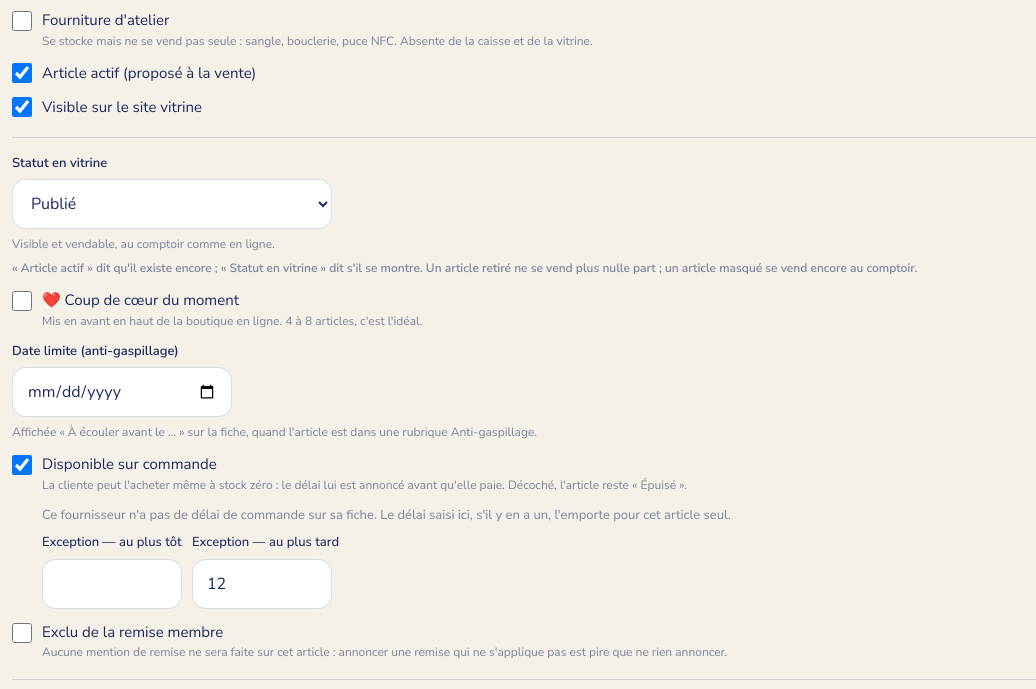
Test case: la case « Disponible sur commande » › une exception effacée fait revenir l'avertissement
(page scrolled)
Clear the field labelled "Exception — au plus tard" at (262, 584), box [192, 558, 332, 608]
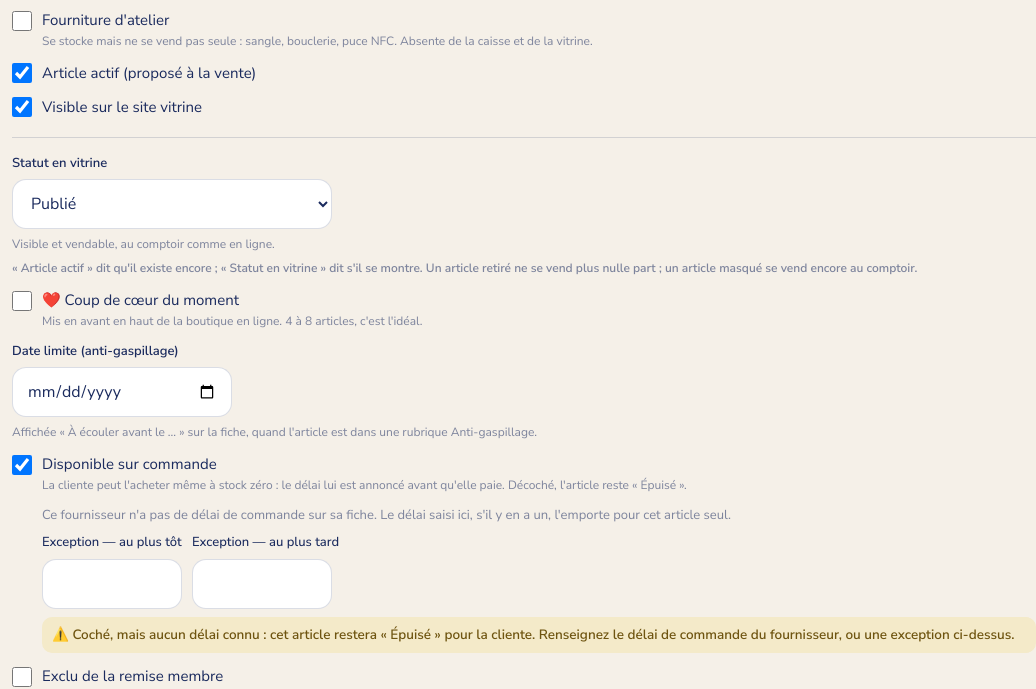
Check: the message is shown, box [42, 616, 1035, 653]
